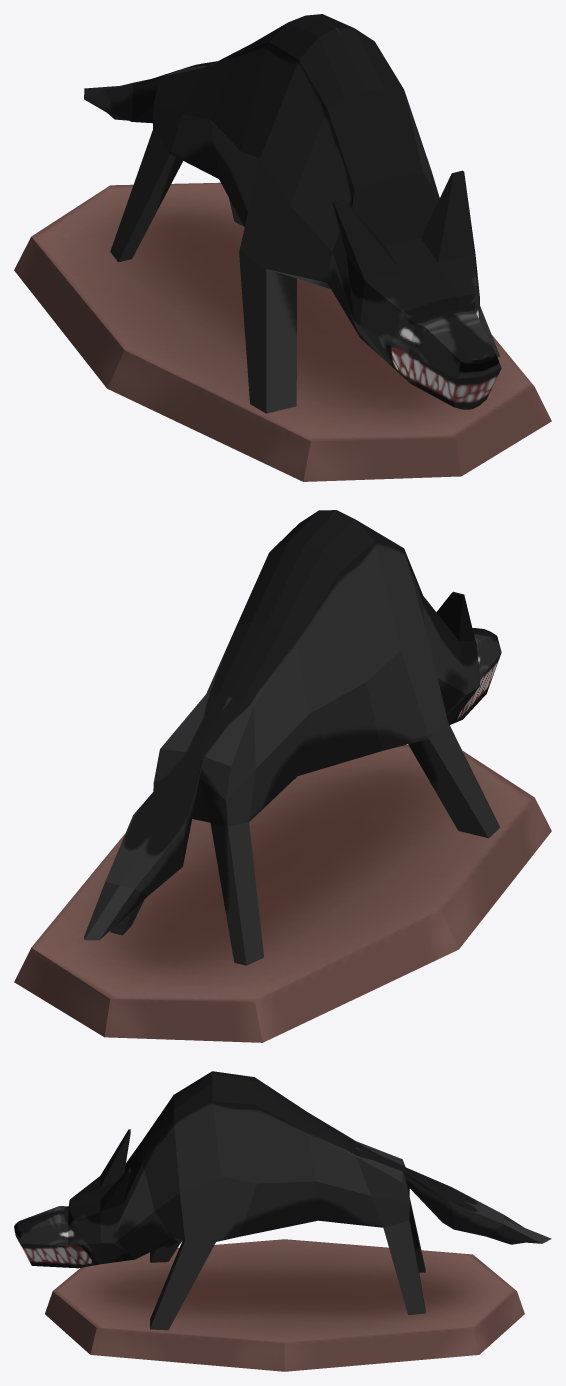
File: Asset_Enemy_Wolf.fbx
The picture shows the model from 3 angles, top to bottom: view 1: azimuth 30°, elevation 25°; view 2: azimuth 150°, elevation 25°; view 3: azimuth 270°, elevation 25°; orthographic projection. The views are drawn at different scales.
Parts seen in each view (by area): view 1: wolf_body, wolf_stand; view 2: wolf_stand, wolf_body; view 3: wolf_body, wolf_stand.
Part boxes in pixels (bbox=[...]): wolf_body: bbox=[84, 14, 501, 413]; wolf_stand: bbox=[14, 182, 551, 481]; wolf_stand: bbox=[14, 745, 551, 1042]; wolf_body: bbox=[84, 510, 501, 965]; wolf_body: bbox=[14, 1071, 551, 1330]; wolf_stand: bbox=[45, 1239, 524, 1371].
Size of the model in its own units: 11.91 by 11.55 by 23.46.
